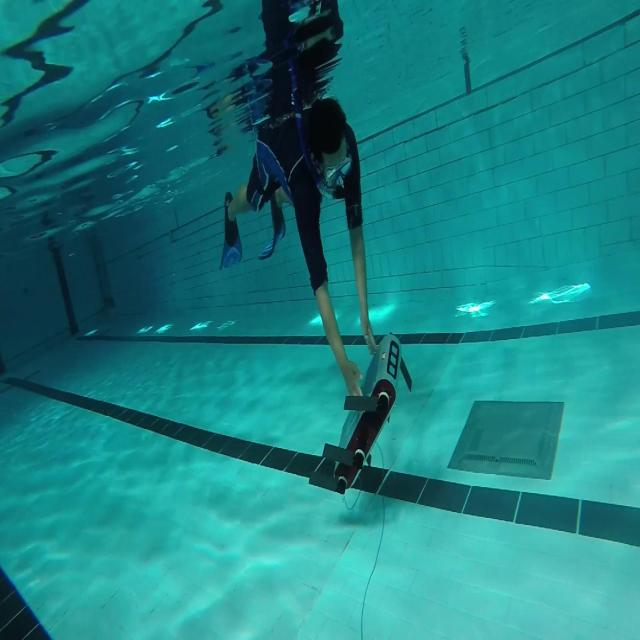human: (219, 63, 378, 401)
